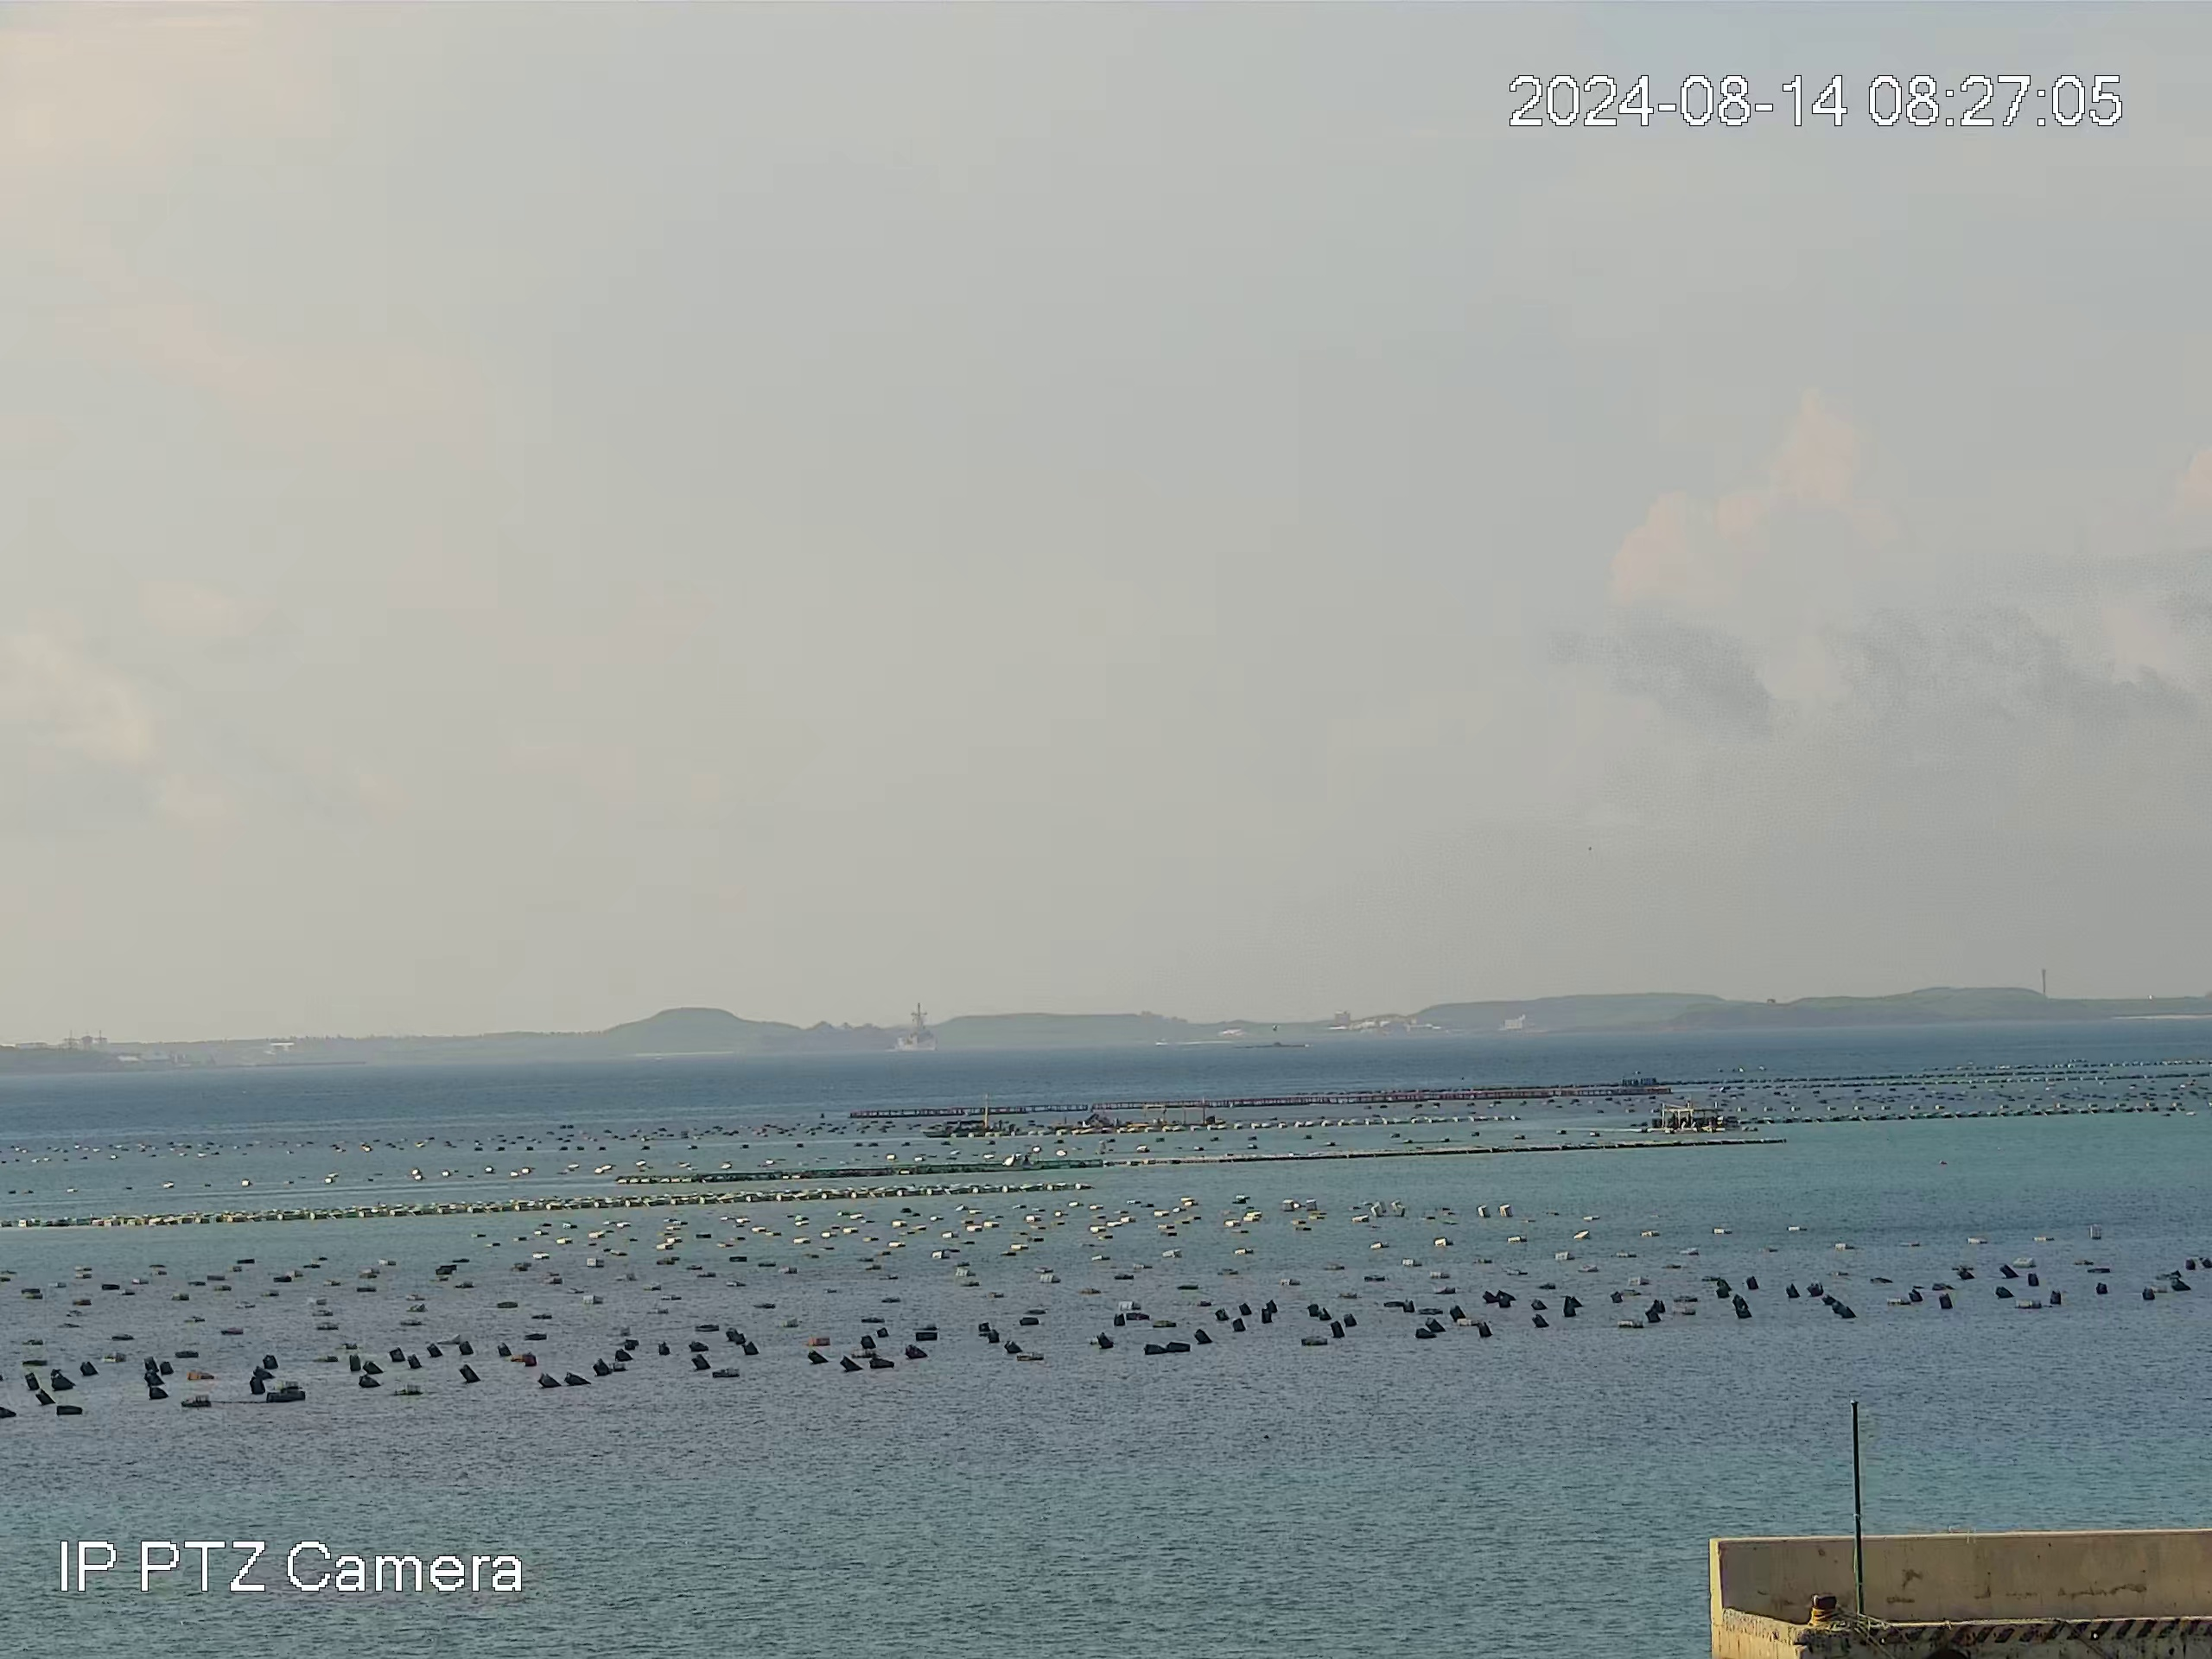boat: (1656, 1100, 1738, 1134), (921, 1115, 986, 1140)
